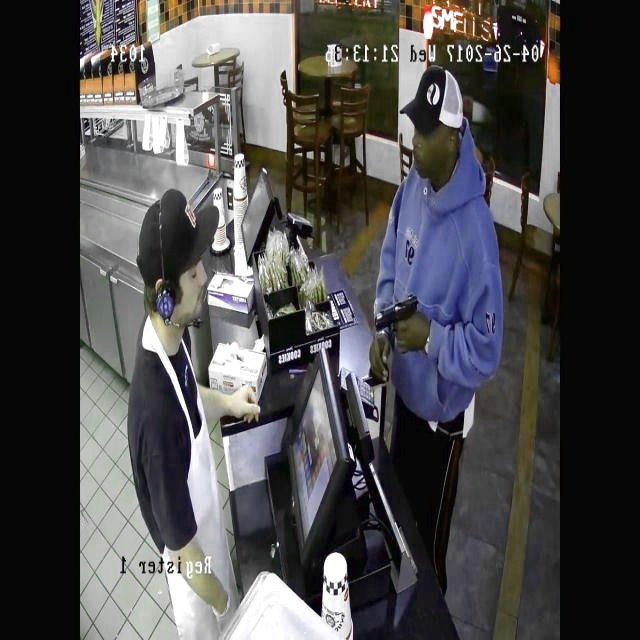gun: (365, 273, 432, 361)
